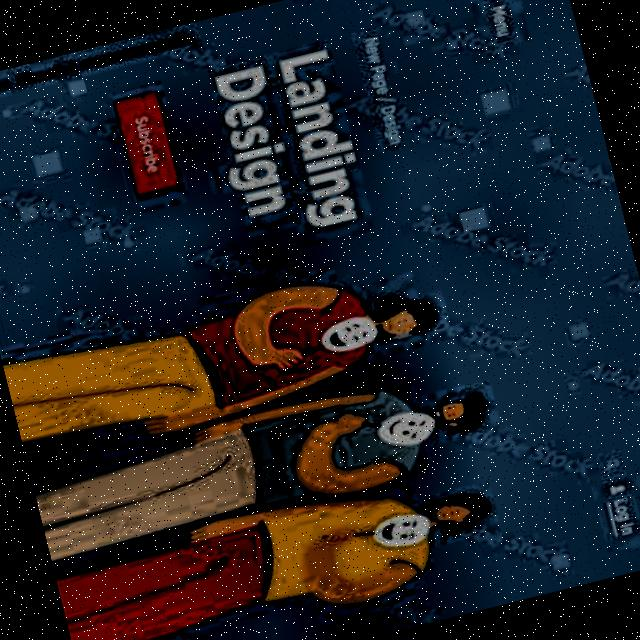happy: (427, 381, 500, 442), (306, 311, 384, 362), (361, 503, 434, 556), (371, 405, 441, 457)
sad: (426, 483, 502, 544), (364, 296, 443, 348)
